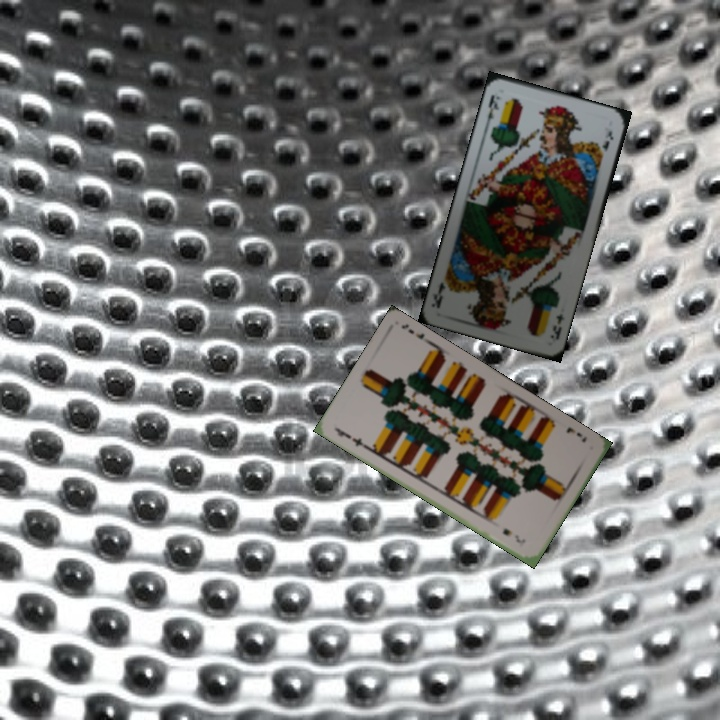E7: (332, 424, 369, 451), (562, 423, 589, 445)
EK: (481, 91, 503, 129), (546, 310, 567, 344)
